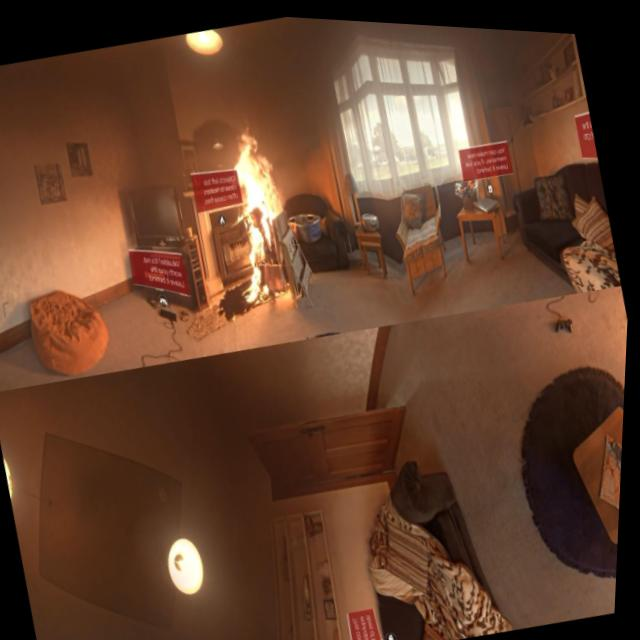fire: (199, 107, 307, 307)
